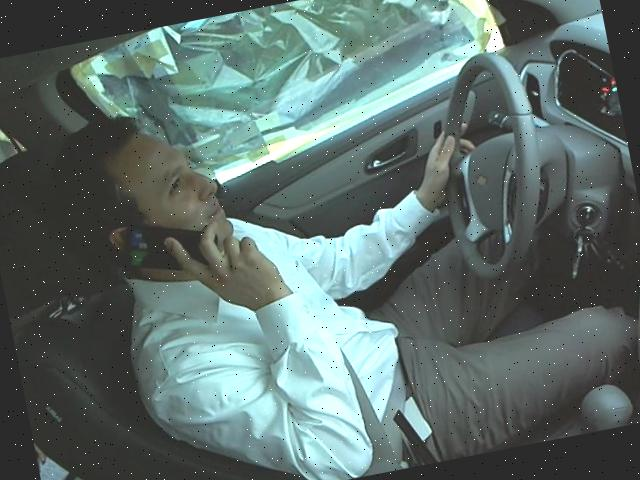c2 - Talking on the phone: (24, 24, 599, 479)
